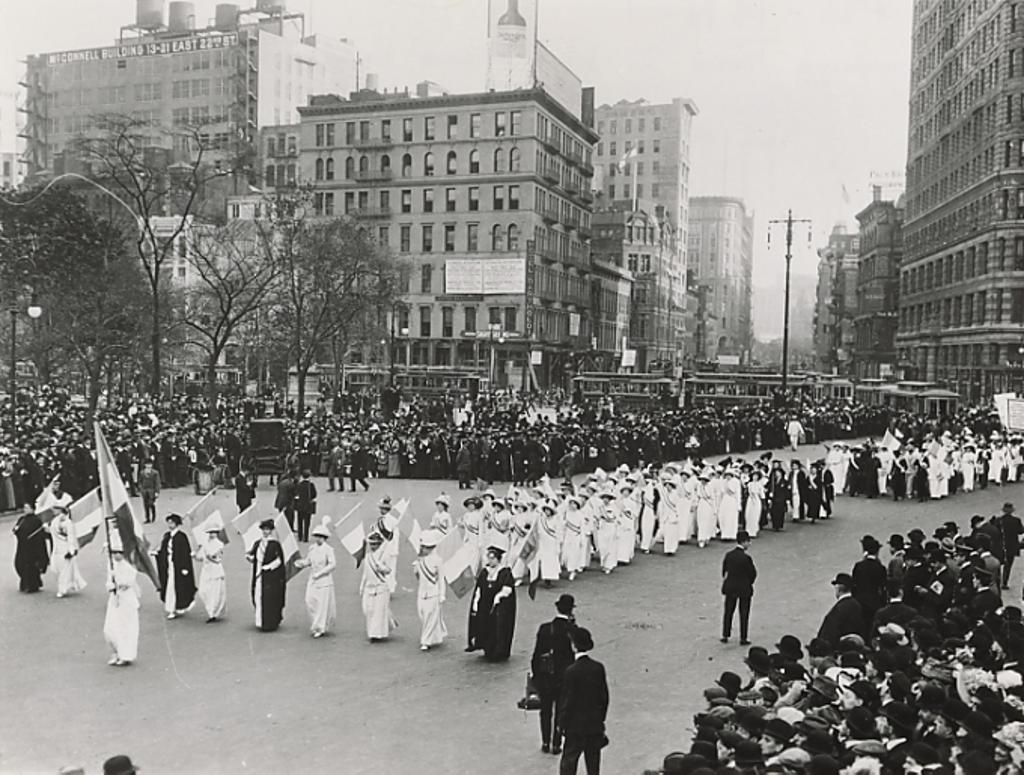human_face: (872, 711, 890, 737), (757, 732, 777, 754), (732, 722, 750, 744), (917, 702, 933, 726), (903, 752, 919, 774), (967, 692, 983, 712), (994, 740, 1010, 760), (934, 713, 948, 735), (794, 726, 808, 748), (948, 741, 962, 763), (841, 689, 857, 707), (713, 740, 727, 760), (792, 676, 806, 696), (838, 716, 852, 736), (1007, 694, 1021, 712), (864, 658, 876, 678), (754, 690, 764, 708), (956, 722, 968, 736), (971, 572, 981, 588), (746, 662, 756, 678), (834, 580, 842, 598), (488, 552, 498, 566), (808, 650, 818, 664), (168, 516, 178, 528), (207, 528, 217, 540), (923, 550, 933, 562), (904, 553, 914, 563), (930, 558, 938, 570), (954, 551, 962, 563), (600, 495, 610, 504), (436, 501, 444, 512), (112, 550, 120, 560), (369, 540, 377, 550), (422, 542, 430, 552), (742, 538, 750, 548), (59, 511, 67, 520), (263, 525, 269, 537), (466, 502, 474, 511), (24, 503, 32, 511), (616, 470, 624, 478), (664, 482, 672, 490), (316, 534, 322, 544), (380, 504, 386, 514), (492, 502, 498, 512), (570, 500, 576, 510), (724, 472, 732, 479), (890, 541, 896, 550), (562, 487, 568, 495), (762, 454, 768, 462), (484, 493, 490, 500), (579, 493, 585, 500), (54, 480, 58, 490), (544, 506, 548, 516), (518, 504, 524, 510), (533, 491, 539, 497), (714, 471, 720, 477), (775, 469, 781, 475), (792, 460, 798, 466), (507, 502, 511, 510), (586, 488, 594, 492), (752, 470, 756, 478), (352, 443, 358, 448), (540, 480, 546, 485), (622, 489, 626, 496), (834, 442, 838, 449), (330, 440, 334, 446), (144, 461, 150, 465), (626, 479, 630, 485), (843, 448, 847, 454), (682, 473, 686, 478), (920, 450, 924, 455), (700, 478, 704, 482), (743, 466, 747, 470), (811, 466, 815, 470), (774, 461, 778, 465), (882, 446, 886, 450), (894, 452, 898, 456), (851, 450, 855, 454), (861, 445, 865, 449), (872, 450, 874, 456)
